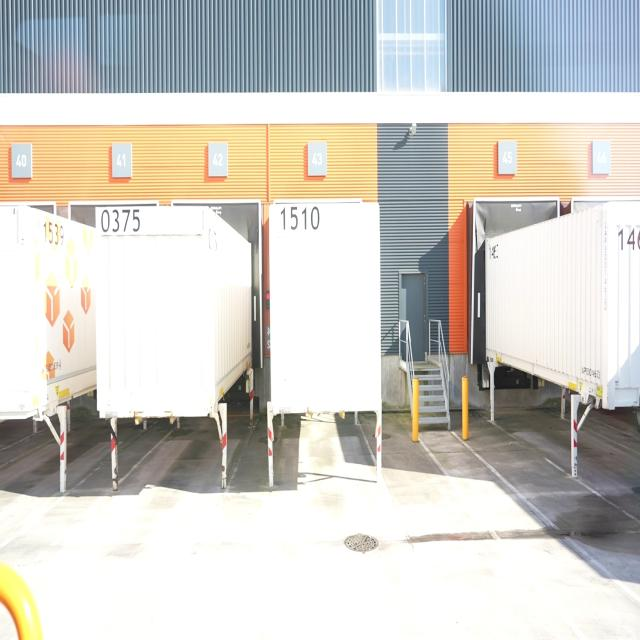Code: (277, 199, 324, 235), (99, 206, 145, 238), (40, 218, 70, 246)
